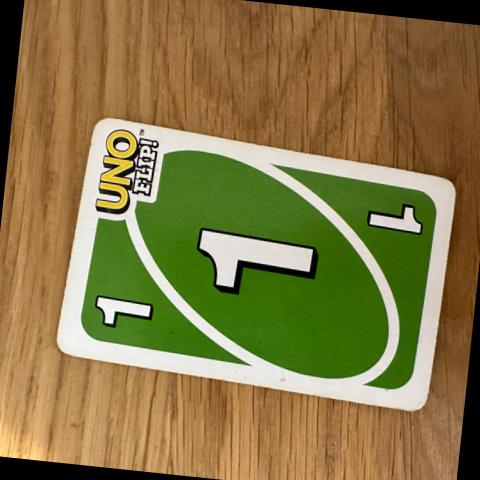lgreen-1: (67, 257, 182, 356)
